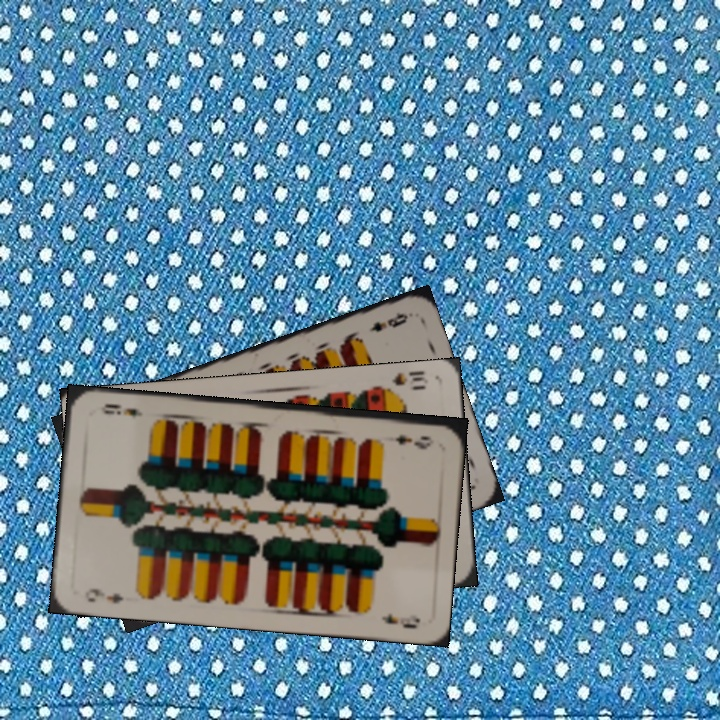E9: (364, 308, 410, 335), (81, 584, 126, 606), (391, 430, 437, 450)
S10: (376, 367, 431, 398)
